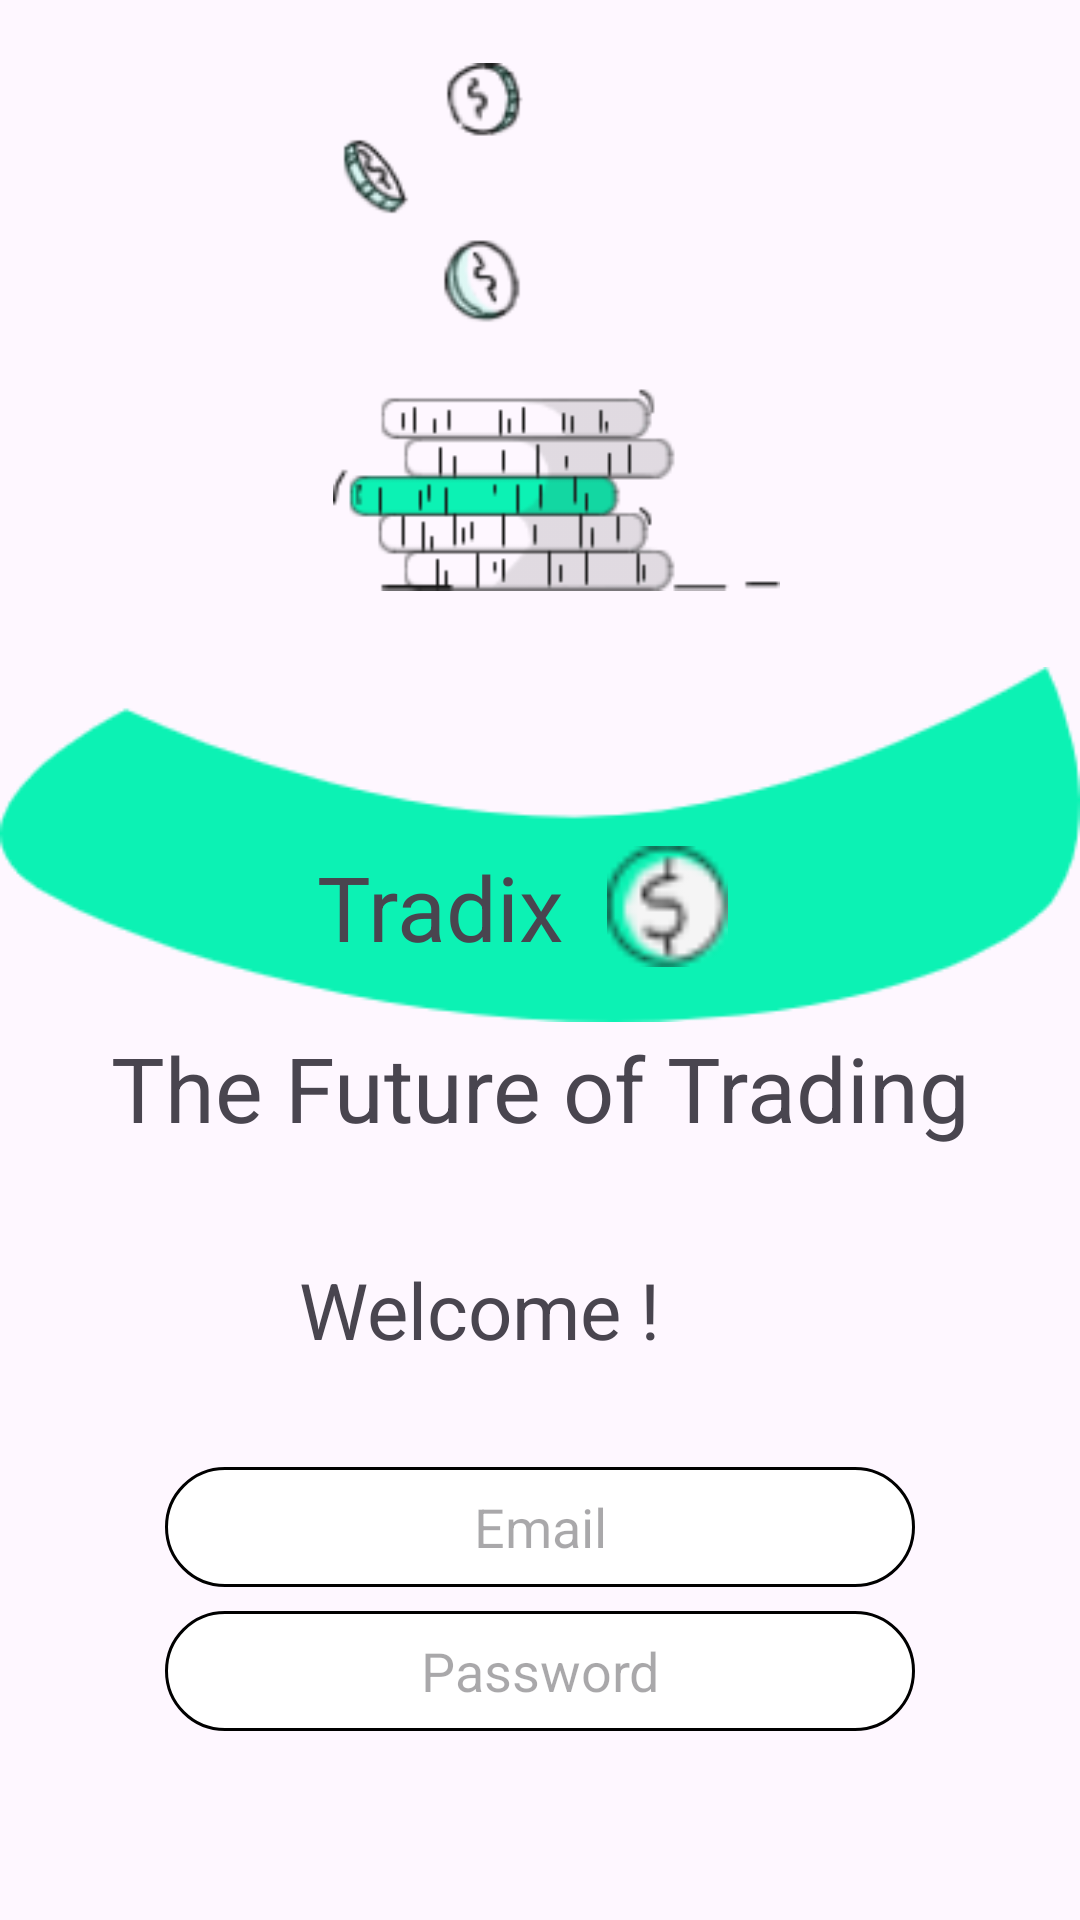

Named icons in this screenshot (1080x1920) and their bounding boxes, bbox=[x1, y1, x2, y2]:
coin: bbox=[607, 846, 728, 967]
